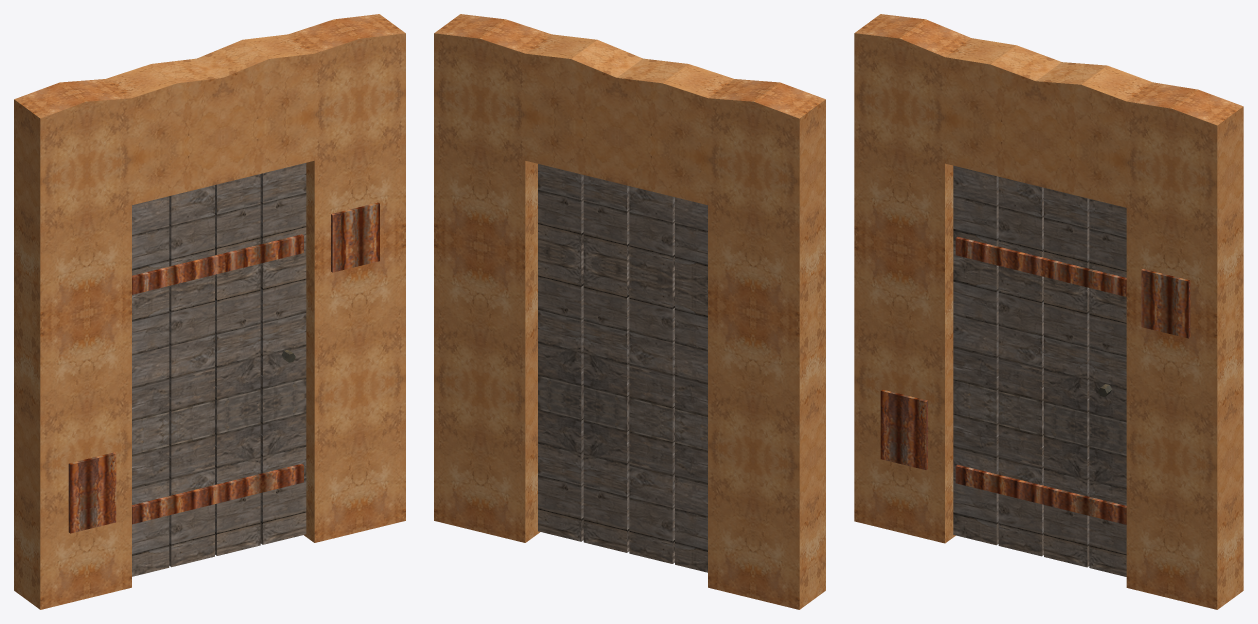
Rendered from wall_door_r2.glb.
3 views of the same model, side by side, from view 1: azimuth 30°, elevation 25°; view 2: azimuth 150°, elevation 25°; view 3: azimuth 330°, elevation 25° (orthographic).
Parts seen in each view (by area): view 1: door, object 1, object 2, object 3, object 12, object 13, object 4, object 8, object 10, object 6, object 9, object 5 (+2 smaller); view 2: door, object 1, object 2, object 3, object 4, object 8, object 10, object 6, object 9, object 5, object 7, object 11; view 3: door, object 2, object 1, object 3, object 12, object 13, object 5, object 11, object 9, object 7, object 4, object 6 (+2 smaller).
Boxes of the visible parts, <box> form: door: <box>132,163,306,576</box>; object 1: <box>14,106,131,609</box>; object 2: <box>304,39,405,542</box>; object 3: <box>132,61,314,204</box>; object 12: <box>68,452,116,533</box>; object 13: <box>331,202,379,272</box>; object 4: <box>14,82,85,127</box>; object 8: <box>197,40,268,83</box>; object 10: <box>288,19,360,60</box>; object 6: <box>106,64,177,105</box>; object 9: <box>243,34,314,72</box>; object 5: <box>60,79,131,116</box>; door: <box>538,164,707,572</box>; object 1: <box>708,106,825,609</box>; object 2: <box>434,39,539,542</box>; object 3: <box>525,61,707,204</box>; object 4: <box>754,82,825,127</box>; object 8: <box>571,40,642,83</box>; object 10: <box>479,19,551,60</box>; object 6: <box>662,64,733,105</box>; object 9: <box>525,34,596,72</box>; object 5: <box>708,79,779,116</box>; object 7: <box>616,58,688,94</box>; object 11: <box>434,14,505,49</box>; door: <box>953,165,1126,576</box>; object 2: <box>1126,109,1243,609</box>; object 1: <box>854,42,955,543</box>; object 3: <box>945,65,1126,207</box>; object 12: <box>880,389,927,469</box>; object 13: <box>1141,269,1190,338</box>; object 5: <box>899,19,970,64</box>; object 11: <box>1172,89,1243,131</box>; object 9: <box>1081,65,1152,108</box>; object 7: <box>990,45,1061,86</box>; object 4: <box>854,14,925,53</box>; object 6: <box>945,38,1015,75</box>.
Bounding box in the file's own units: 2 × 2.6 × 0.266.
4 materials, 4 textured.
